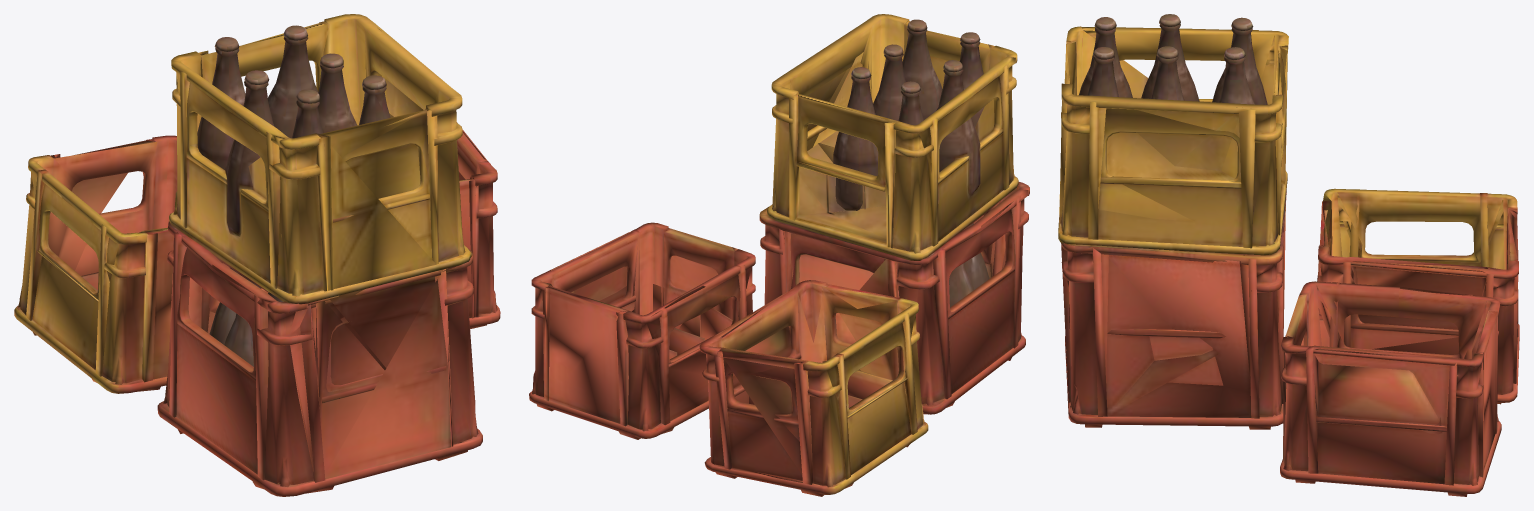
The model's file is drink_crates.glb.
3 views of the same model, side by side, from view 1: azimuth 30°, elevation 25°; view 2: azimuth 150°, elevation 25°; view 3: azimuth 270°, elevation 25° (orthographic). The views are drawn at different scales.
Parts seen in each view (by area): view 1: tripo_node_e575e5ea-eecc-46dd-af12-e419af9c2c78; view 2: tripo_node_e575e5ea-eecc-46dd-af12-e419af9c2c78; view 3: tripo_node_e575e5ea-eecc-46dd-af12-e419af9c2c78.
Boxes of the visible parts, x1,y1,x2,y2 form: tripo_node_e575e5ea-eecc-46dd-af12-e419af9c2c78: [14, 14, 500, 496]; tripo_node_e575e5ea-eecc-46dd-af12-e419af9c2c78: [529, 14, 1029, 496]; tripo_node_e575e5ea-eecc-46dd-af12-e419af9c2c78: [1058, 14, 1519, 496].
Size of the model in its own units: 0.8999 by 0.8218 by 0.9995.
1 material, 1 textured.
